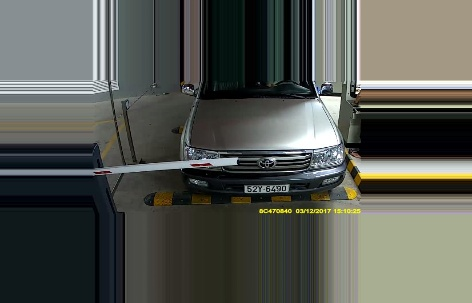plate: (246, 181, 288, 193)
